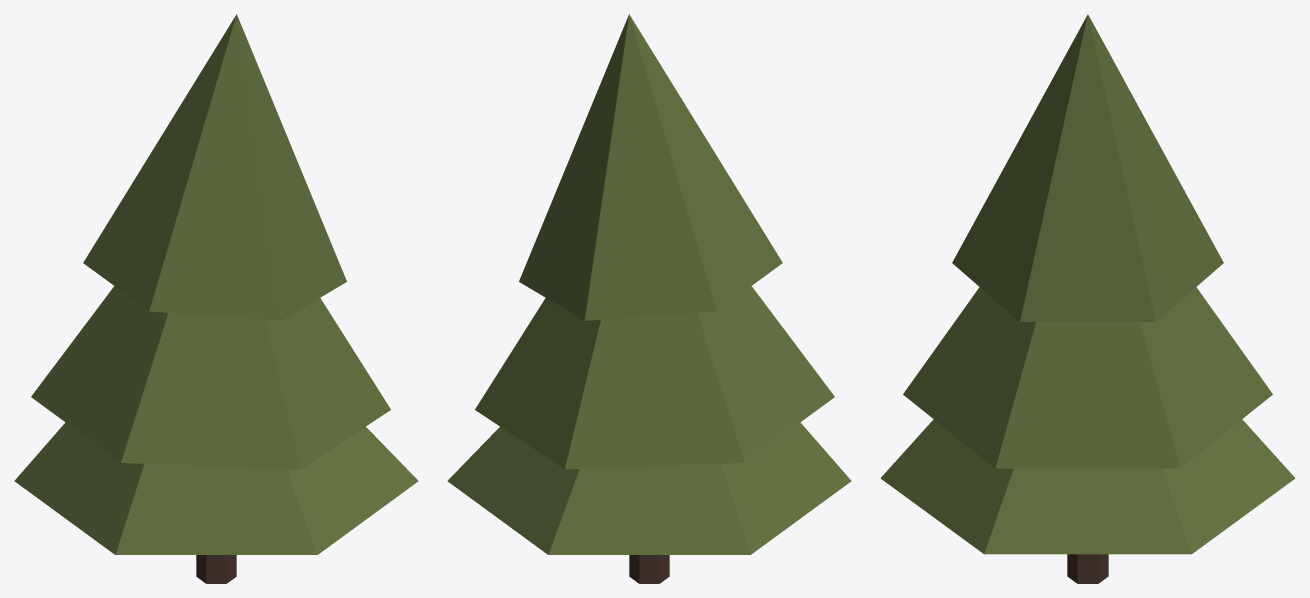
Rendered from Tree_Type1_03.glb.
The picture shows the model from 3 angles, left to right: view 1: azimuth 30°, elevation 25°; view 2: azimuth 150°, elevation 25°; view 3: azimuth 270°, elevation 25°; orthographic projection. The views are drawn at different scales.
Parts seen in each view (by area): view 1: Tree Type1 03 Model; view 2: Tree Type1 03 Model; view 3: Tree Type1 03 Model.
Part boxes in pixels (<box>): Tree Type1 03 Model: <box>14,14,418,583</box>; Tree Type1 03 Model: <box>447,14,851,583</box>; Tree Type1 03 Model: <box>880,14,1295,583</box>.
Bounding box in the file's own units: 1.75 × 3.07 × 2.02.
Materials: 1 (1 with a texture image).
